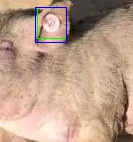text: (37, 7, 66, 38)
